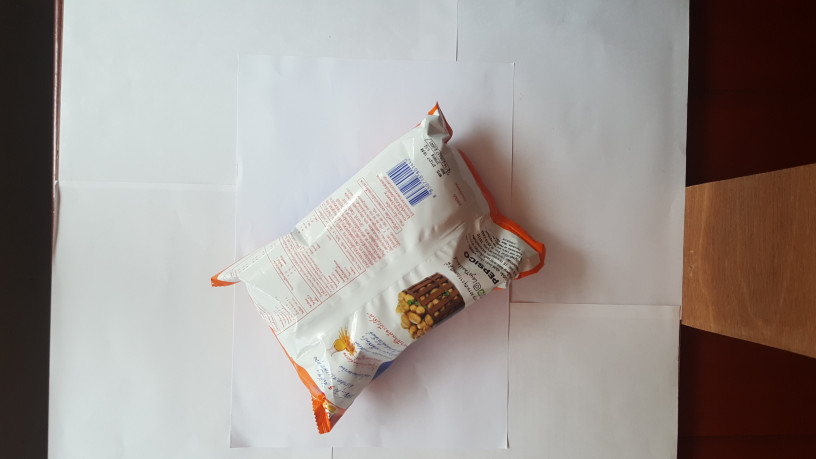lays-bbq: (203, 102, 546, 428)
